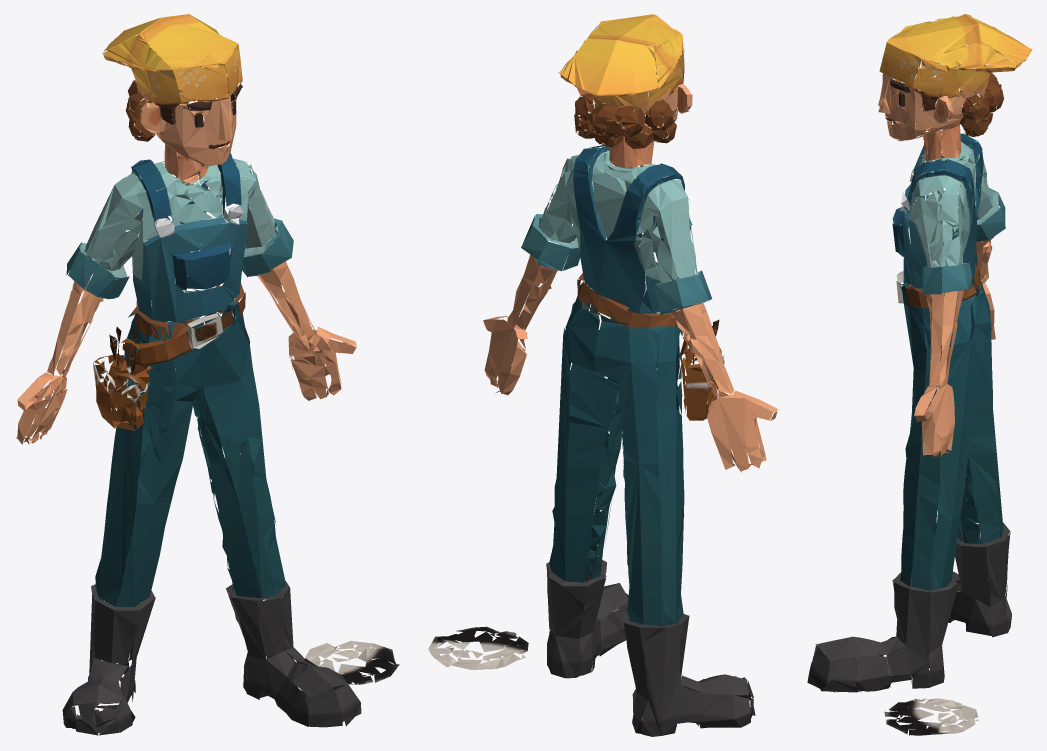
File: habitant.glb
3 renders of one model, left to right at view 1: azimuth 30°, elevation 25°; view 2: azimuth 150°, elevation 25°; view 3: azimuth 270°, elevation 25°, orthographic. The views are drawn at different scales.
Parts seen in each view (by area): view 1: world; view 2: world; view 3: world.
Part boxes in pixels (x1,y1,x2,y2): world: (16,14,399,735); world: (428,14,778,736); world: (807,14,1032,735).
Bounding box in the file's own units: 0.5573 × 1 × 0.3268.
Materials: 1 (1 with a texture image).
